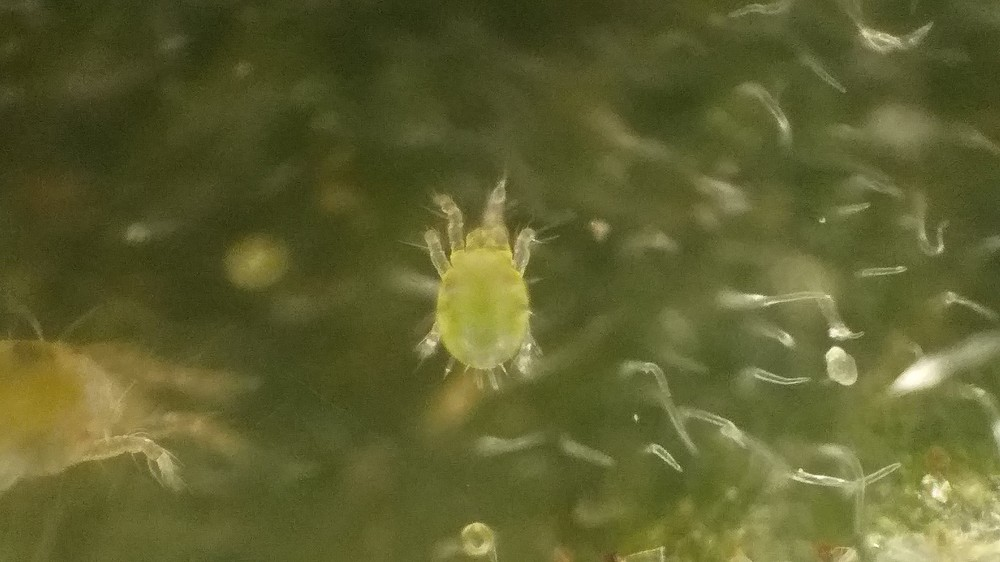Aracnido Rojo: (2, 284, 288, 525), (373, 176, 599, 409)
